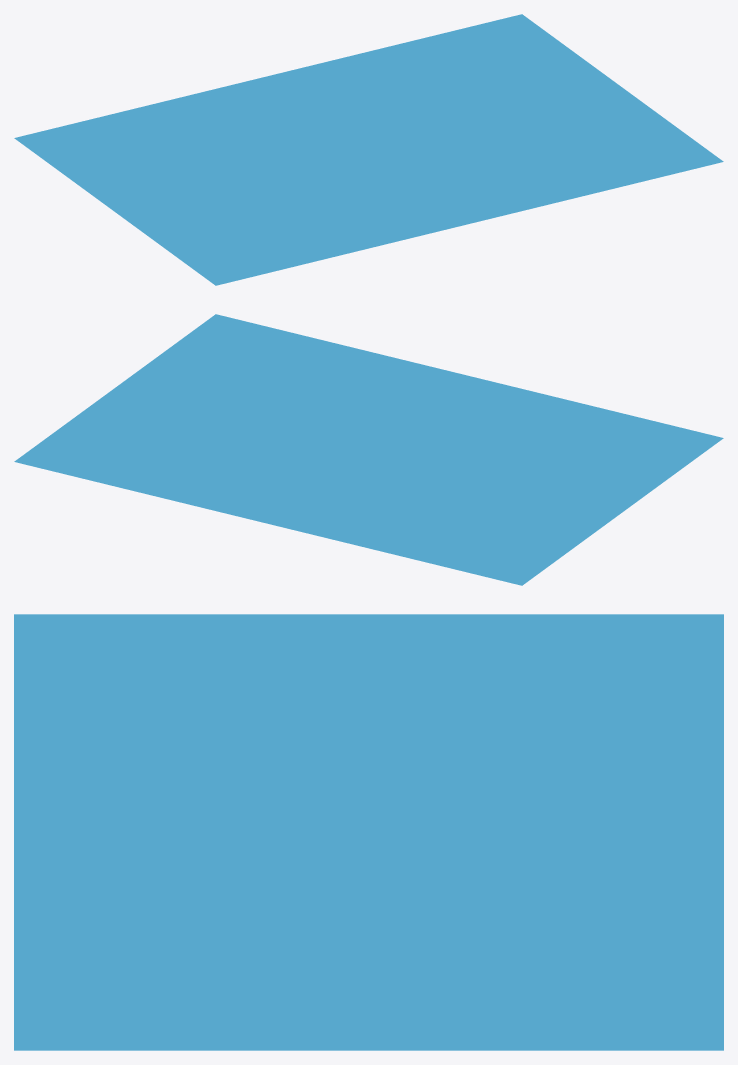
File: Water.fbx
The picture shows the model from 3 angles, top to bottom: view 1: azimuth 30°, elevation 25°; view 2: azimuth 150°, elevation 25°; view 3: azimuth 270°, elevation 25°; orthographic projection. The views are drawn at different scales.
Visible parts, largest first — view 1: Plane.001; view 2: Plane.001; view 3: Plane.001.
Boxes of the visible parts, x1,y1,x2,y2 form: Plane.001: (14,14,723,285); Plane.001: (14,314,723,585); Plane.001: (14,614,723,1050).
Bounding box in the file's own units: 667 × 7.48e-05 × 459.
